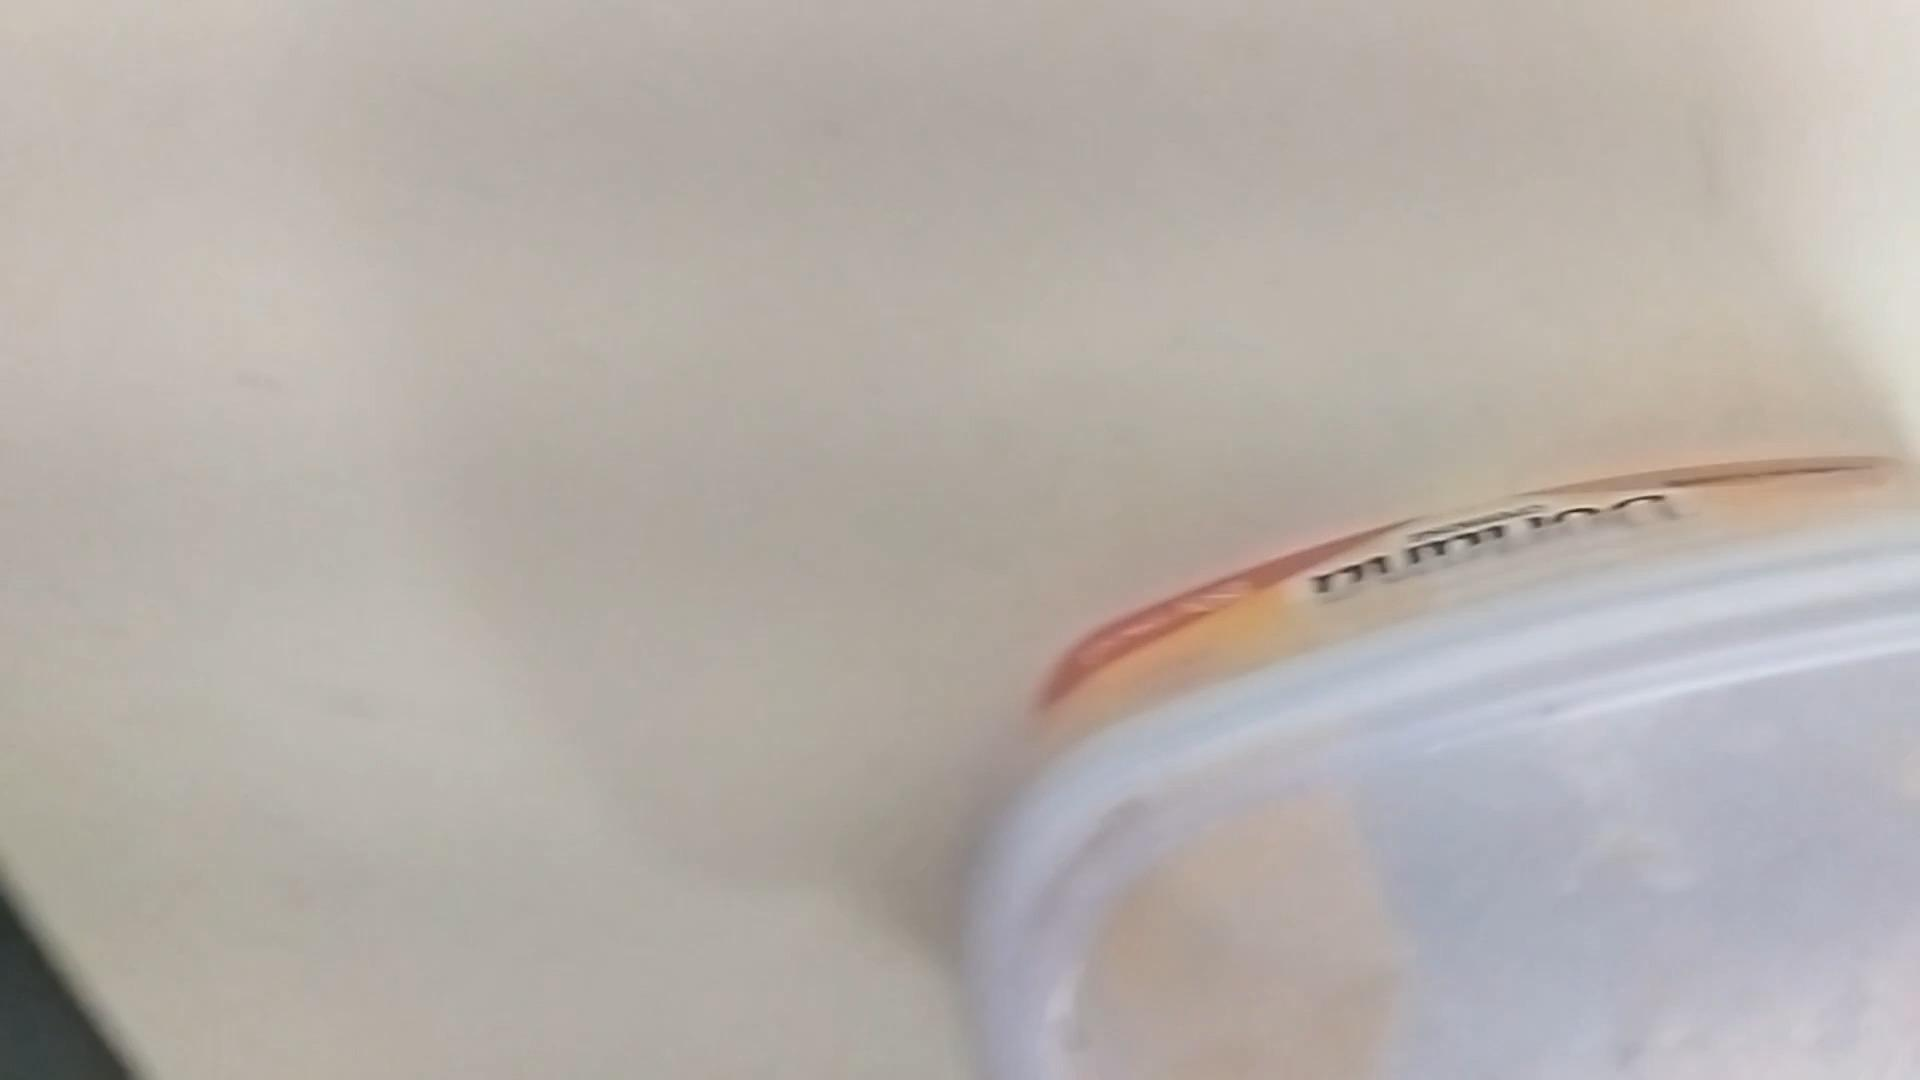butter: (957, 469, 1917, 1080)
